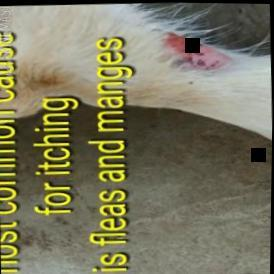skin_lesions: (158, 27, 230, 80)
